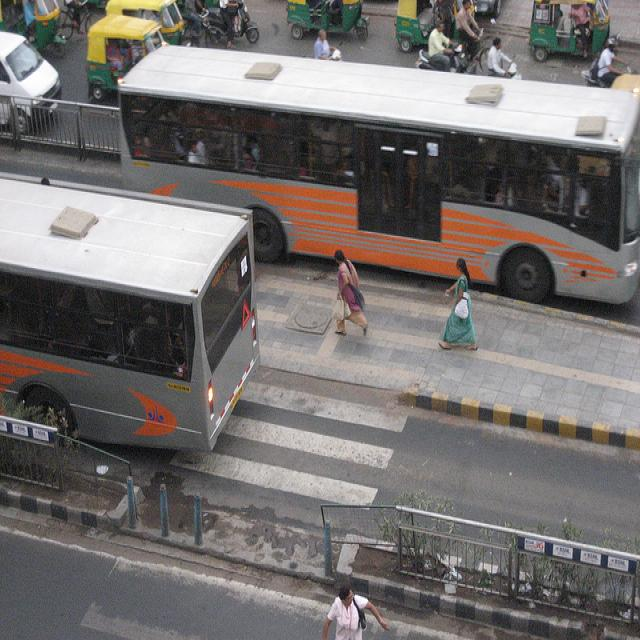motor: (206, 1, 259, 44), (416, 39, 476, 75), (505, 56, 522, 79)
